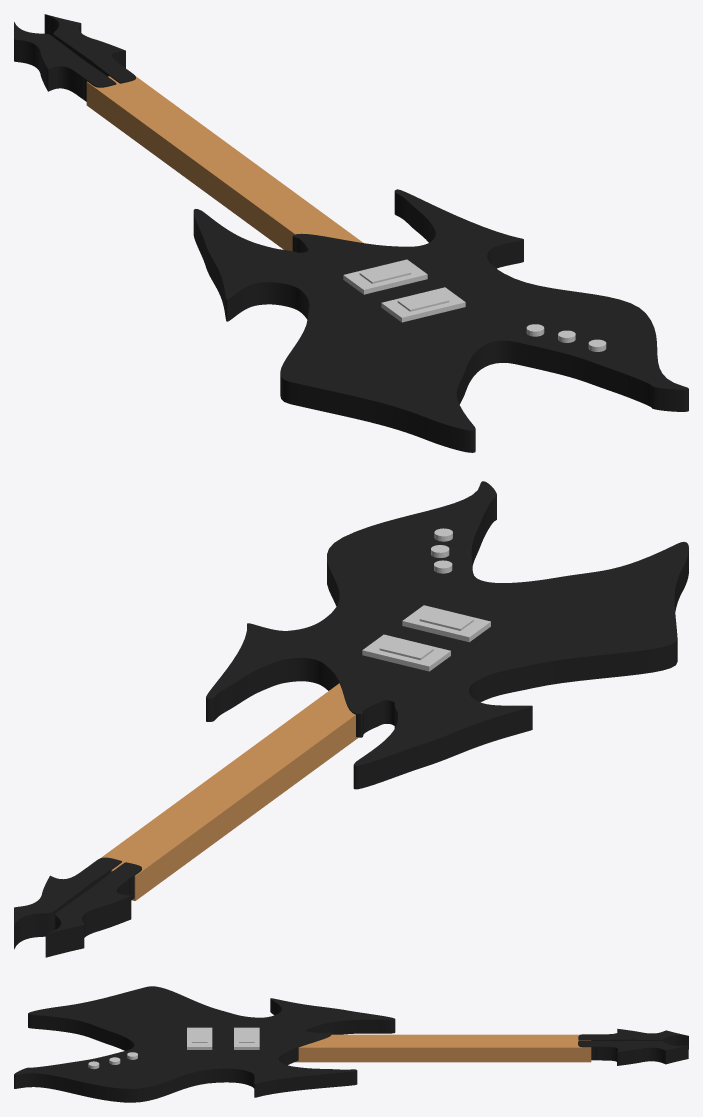
File: guitar1.fbx
3 views of the same model, one above another, from view 1: azimuth 30°, elevation 25°; view 2: azimuth 150°, elevation 25°; view 3: azimuth 270°, elevation 25° (orthographic). The views are drawn at different scales.
Visible parts, largest first — view 1: BezierCurve_001, Cube_005, Cube_004, Cube; view 2: BezierCurve_001, Cube_005, Cube, Cube_004; view 3: BezierCurve_001, Cube_005, Cube, Cube_004.
Part boxes in pixels (x1,y1,x2,y2): BezierCurve_001: (14, 14, 688, 452); Cube_005: (86, 76, 363, 251); Cube_004: (381, 287, 465, 322); Cube: (343, 259, 427, 294); BezierCurve_001: (14, 481, 688, 957); Cube_005: (100, 683, 358, 900); Cube: (362, 634, 450, 671); Cube_004: (402, 605, 490, 642); BezierCurve_001: (14, 986, 688, 1102); Cube_005: (295, 1034, 591, 1062); Cube: (234, 1027, 259, 1049); Cube_004: (187, 1027, 212, 1049).
Size of the model in its own units: 4.22 by 0.3724 by 11.72.
